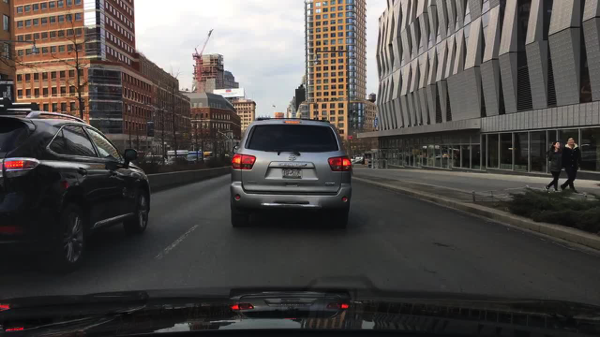car: (0, 97, 152, 272), (229, 118, 352, 228)
person: (560, 137, 582, 195), (543, 140, 563, 192)
